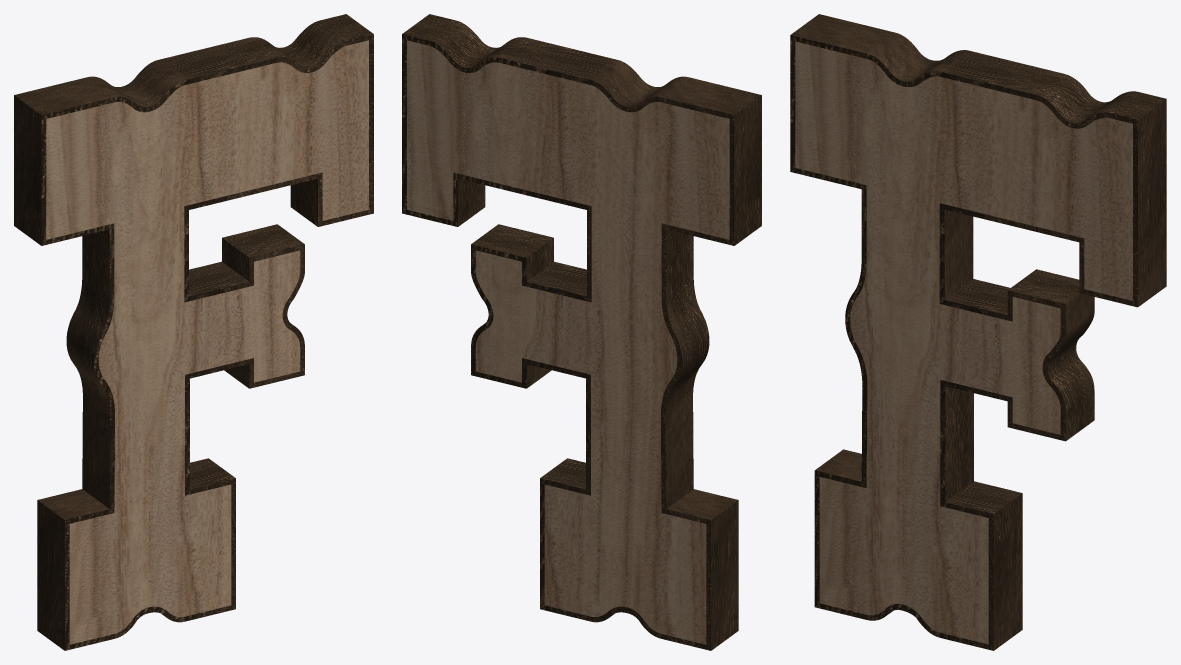
The picture shows the model from 3 angles, left to right: view 1: azimuth 30°, elevation 25°; view 2: azimuth 150°, elevation 25°; view 3: azimuth 330°, elevation 25°; orthographic projection. The views are drawn at different scales.
Visible parts, largest first — view 1: F, F_outline; view 2: F, F_outline; view 3: F, F_outline.
Part boxes in pixels (x1=…): F: x1=46, y1=40, x2=368, y2=644; F_outline: x1=14, y1=14, x2=373, y2=650; F: x1=407, y1=40, x2=729, y2=644; F_outline: x1=402, y1=14, x2=761, y2=650; F: x1=795, y1=41, x2=1132, y2=644; F_outline: x1=790, y1=14, x2=1166, y2=650.
Size of the model in its own units: 69.88 by 109 by 10.
2 materials, 2 textured.
